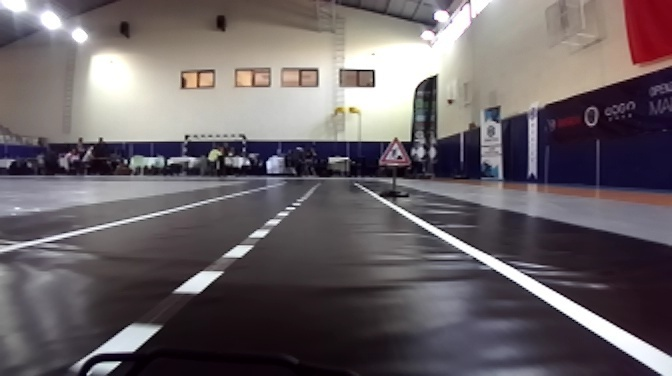yol_yapimi: (374, 132, 410, 169)
